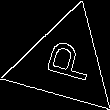P_W: (35, 38, 93, 88)
